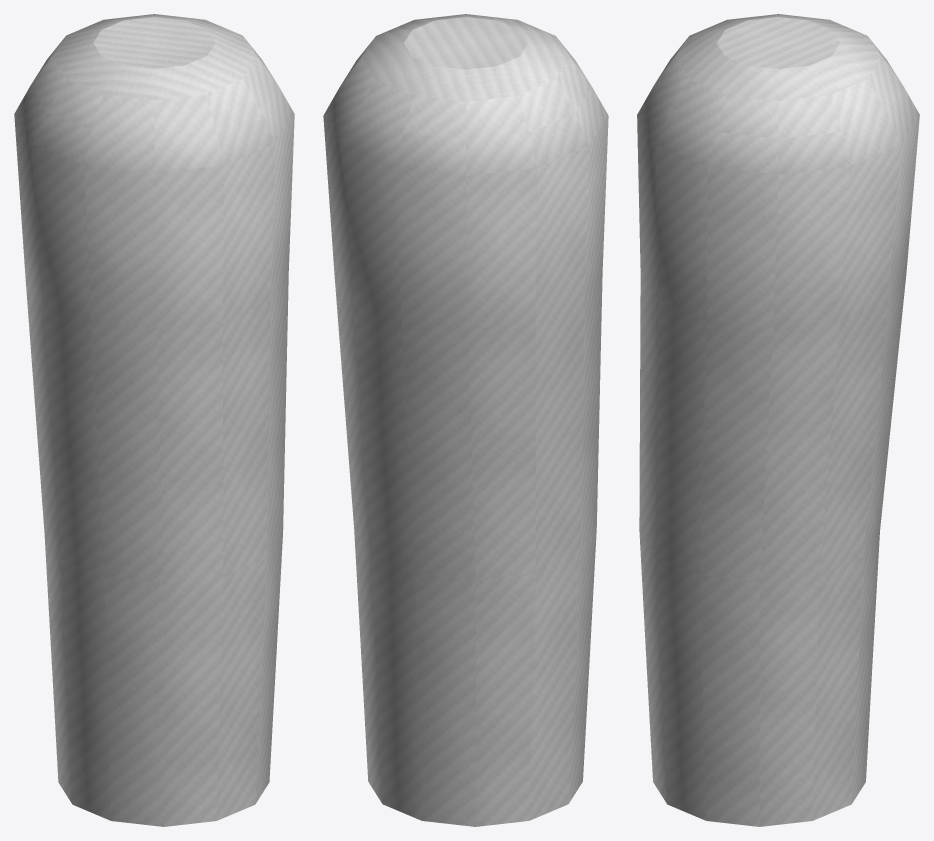
The model's file is shirt_hoodie_sleeve_l.glb.
The picture shows the model from 3 angles, left to right: view 1: azimuth 30°, elevation 25°; view 2: azimuth 150°, elevation 25°; view 3: azimuth 270°, elevation 25°; orthographic projection.
Visible parts, largest first — view 1: shirt_hoodie_sleeve_l; view 2: shirt_hoodie_sleeve_l; view 3: shirt_hoodie_sleeve_l.
Part boxes in pixels (<box>): shirt_hoodie_sleeve_l: <box>14,14,294,826</box>; shirt_hoodie_sleeve_l: <box>323,14,608,826</box>; shirt_hoodie_sleeve_l: <box>637,14,919,826</box>.
Size of the model in its own units: 0.1787 by 0.515 by 0.1787.
1 material, 1 textured.
